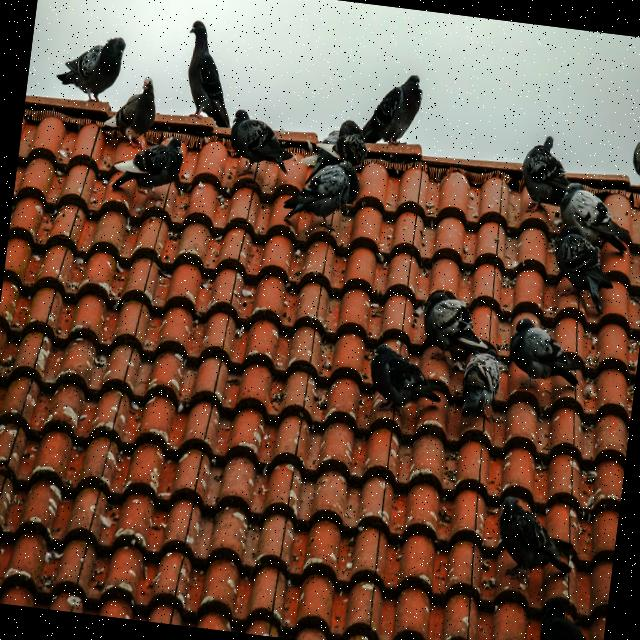bird: (279, 118, 369, 244), (491, 494, 581, 584), (414, 288, 500, 375), (502, 315, 590, 400), (177, 18, 243, 130), (362, 340, 449, 424), (106, 128, 188, 210), (548, 224, 620, 317), (553, 179, 637, 255), (52, 28, 128, 109), (357, 66, 426, 150), (514, 132, 576, 222), (224, 107, 298, 179), (98, 70, 161, 152), (456, 347, 504, 422), (533, 594, 608, 640), (336, 116, 365, 142), (628, 127, 640, 189)
